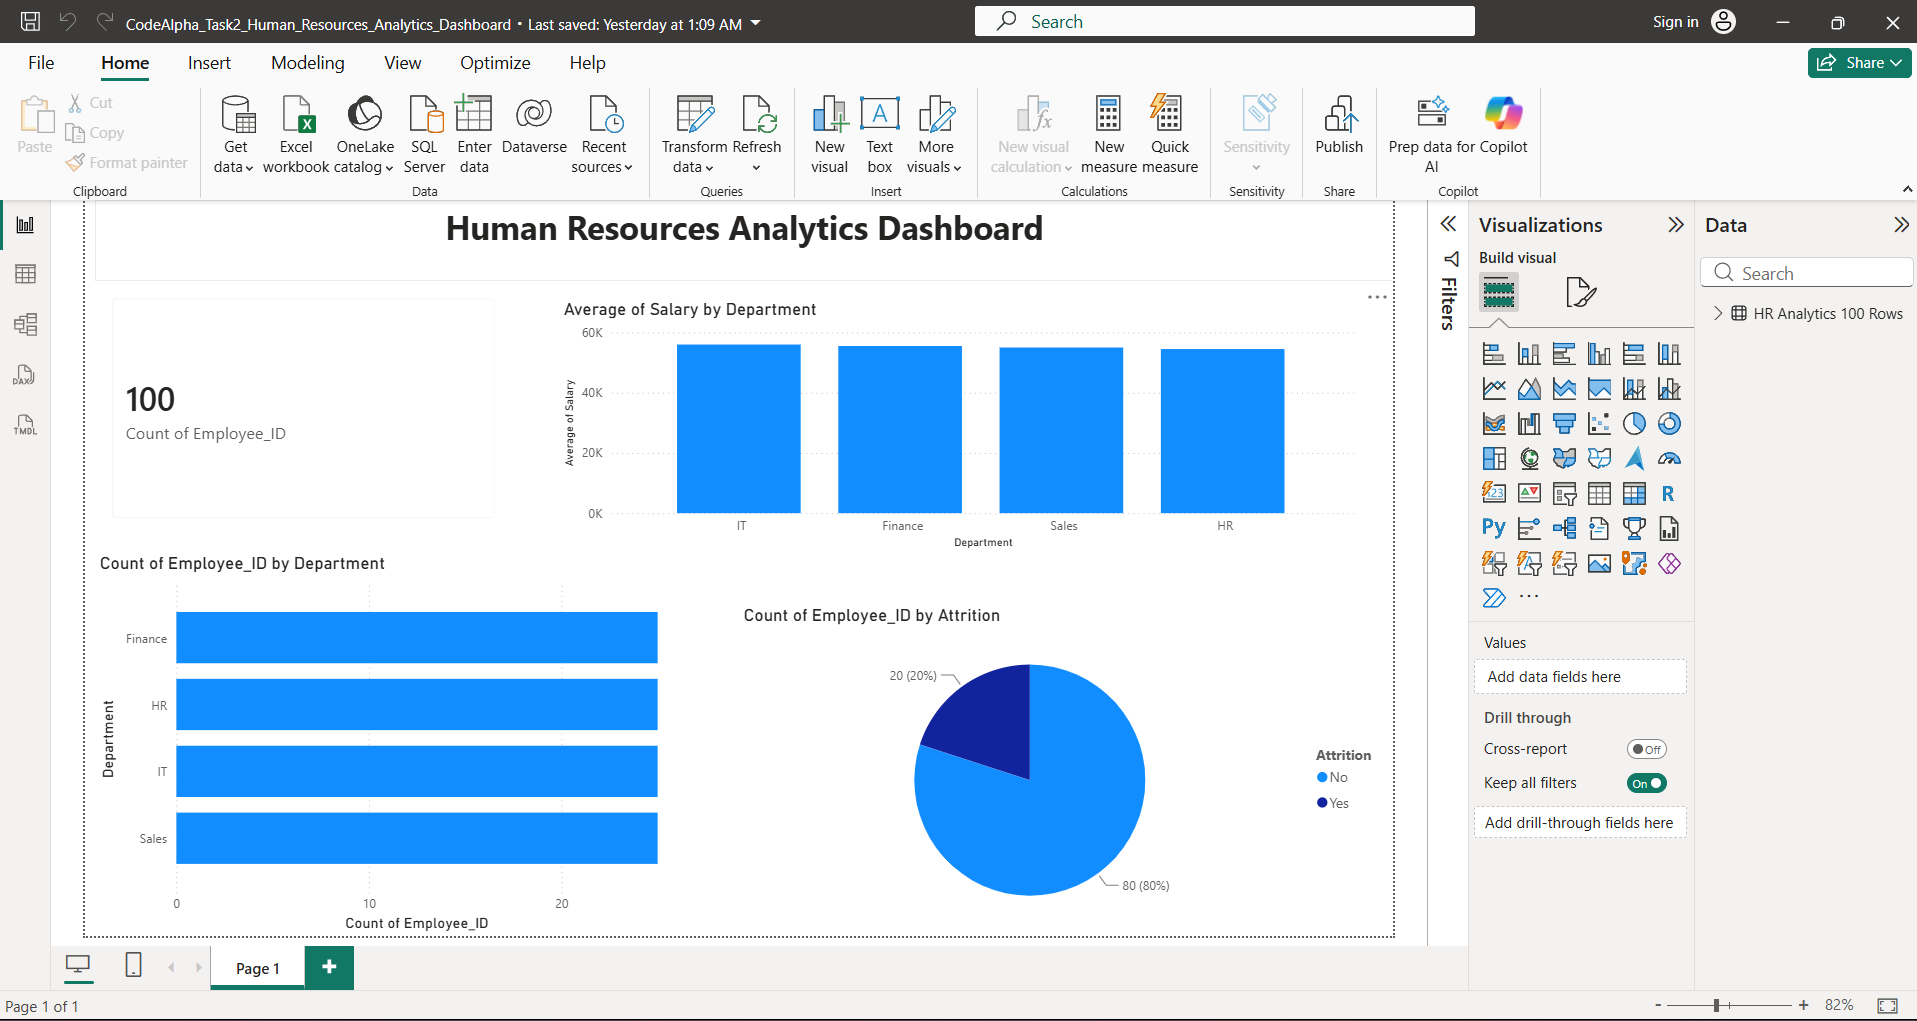

The page's visual inventory and layout, read from the dashboard file:
{"tool":"powerbi","page":{"name":"Page 1","canvas":[1280,720],"ordinal":0},"visuals":[{"type":"textbox","box":[9.6,0,1270.7,79.6],"z":0},{"type":"cardVisual","fields":{"Data":["CountNonNull(HR Analytics 100 Rows.Employee_ID)"]},"box":[9.6,79.6,408.9,249.7],"z":1},{"type":"clusteredBarChart","fields":{"Category":["HR Analytics 100 Rows.Department"],"Y":["CountNonNull(HR Analytics 100 Rows.Employee_ID)"]},"box":[9.6,344.4,562.6,376],"z":2},{"type":"columnChart","fields":{"Category":["HR Analytics 100 Rows.Department"],"Y":["Avg(HR Analytics 100 Rows.Salary)"]},"box":[463.8,96.1,783.5,249.7],"z":3},{"type":"pieChart","fields":{"Category":["HR Analytics 100 Rows.Attrition"],"Y":["CountNonNull(HR Analytics 100 Rows.Employee_ID)"]},"box":[639.5,396.6,640.8,323.8],"z":4}]}

Visuals, with their boxes on the page's 1280x720 design canvas (x1, y1, x2, y2). These are canvas units, not pixel positions in the 1917x1021 screenshot, which may show the page scaled, cropped or inside an application window:
textbox: 10:0:1280:80
cardVisual - CountNonNull(HR Analytics 100 Rows.Employee_ID): 10:80:418:329
clusteredBarChart - HR Analytics 100 Rows.Department x CountNonNull(HR Analytics 100 Rows.Employee_ID): 10:344:572:720
columnChart - HR Analytics 100 Rows.Department x Avg(HR Analytics 100 Rows.Salary): 464:96:1247:346
pieChart - HR Analytics 100 Rows.Attrition x CountNonNull(HR Analytics 100 Rows.Employee_ID): 640:397:1280:720
